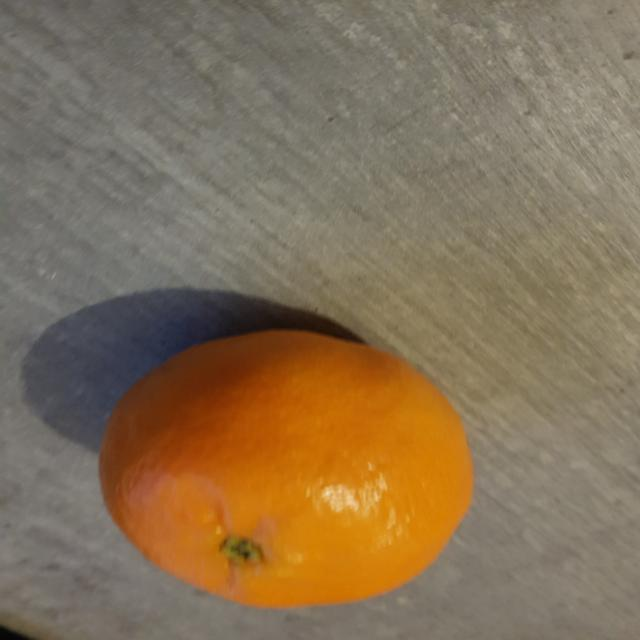Orange: (96, 328, 475, 611)
